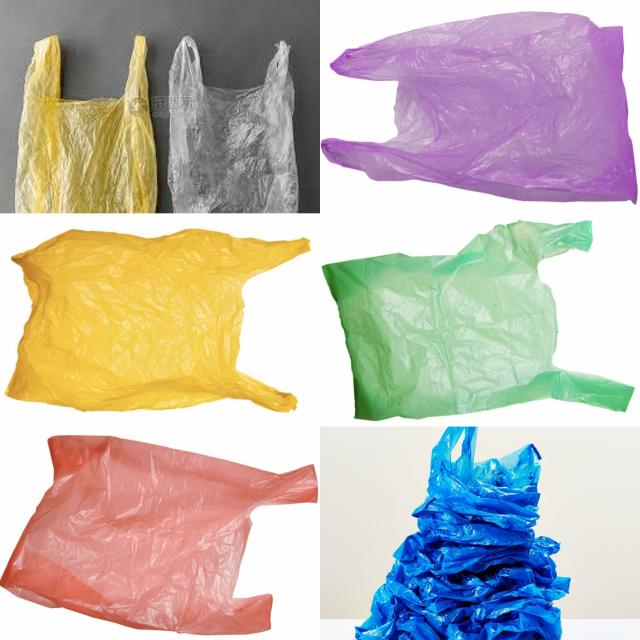Single-layer Plastic: (322, 12, 637, 202), (6, 229, 308, 411), (15, 35, 158, 212), (168, 36, 299, 212)
